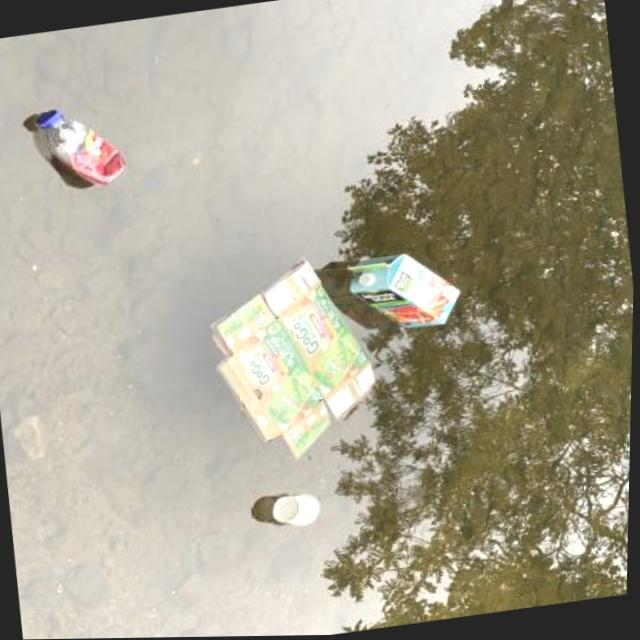Cardboard: (193, 244, 397, 474), (339, 241, 472, 342)
Paper: (265, 483, 329, 531)
Plastic: (24, 92, 137, 201)
